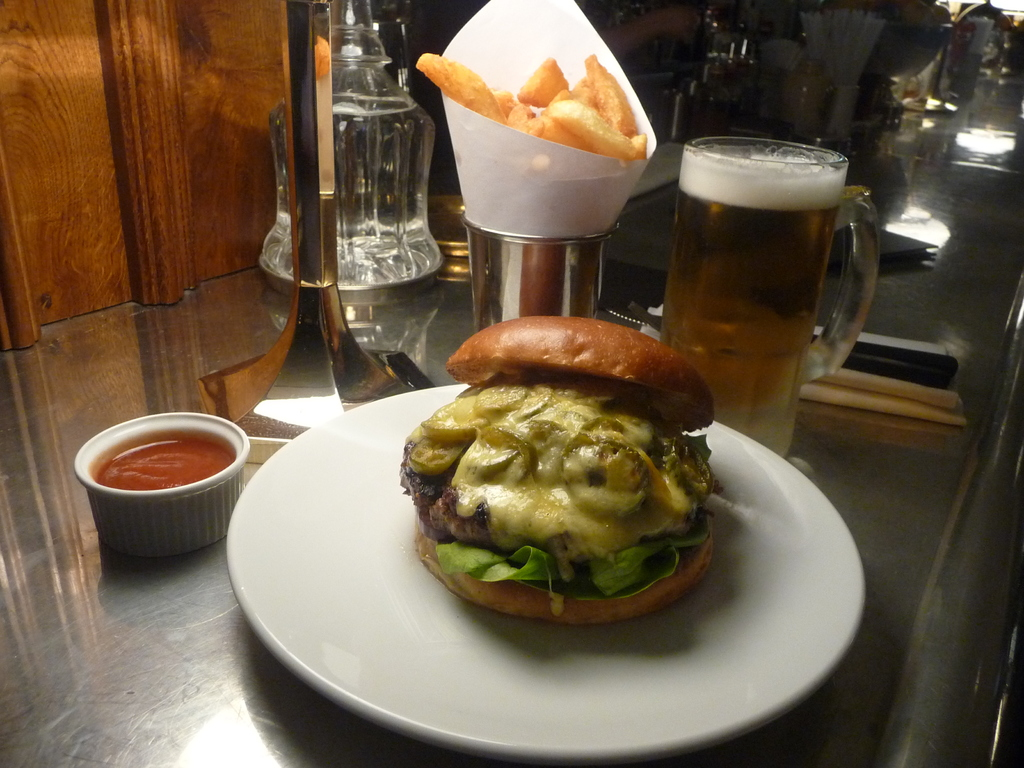French fries: (419, 44, 657, 165)
